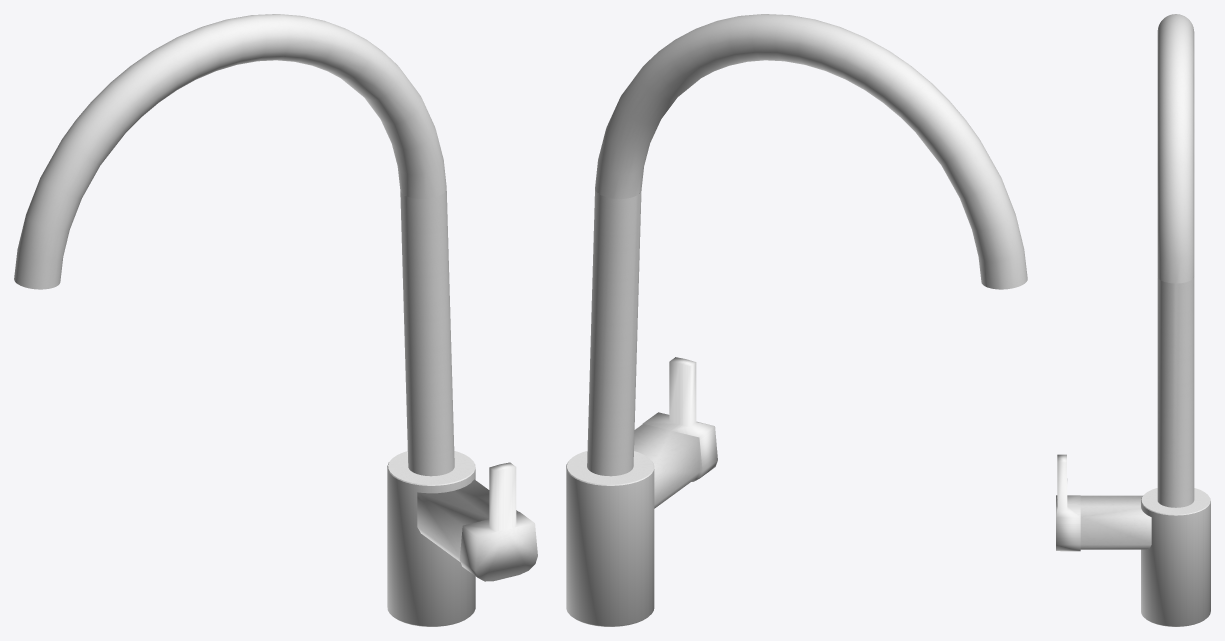
The model's file is 1860_kitchen_faucet_AlignChrome.gltf.
The picture shows the model from 3 angles, left to right: view 1: azimuth 30°, elevation 25°; view 2: azimuth 150°, elevation 25°; view 3: azimuth 270°, elevation 25°; orthographic projection. The views are drawn at different scales.
Visible parts, largest first — view 1: Align Chrome; view 2: Align Chrome; view 3: Align Chrome.
Boxes of the visible parts, x1=… form: Align Chrome: x1=14, y1=14, x2=537, y2=626; Align Chrome: x1=566, y1=14, x2=1027, y2=626; Align Chrome: x1=1056, y1=14, x2=1210, y2=626.
Size of the model in its own units: 0.2775 by 0.373 by 0.1039.
Materials: 1 (1 with a texture image).
